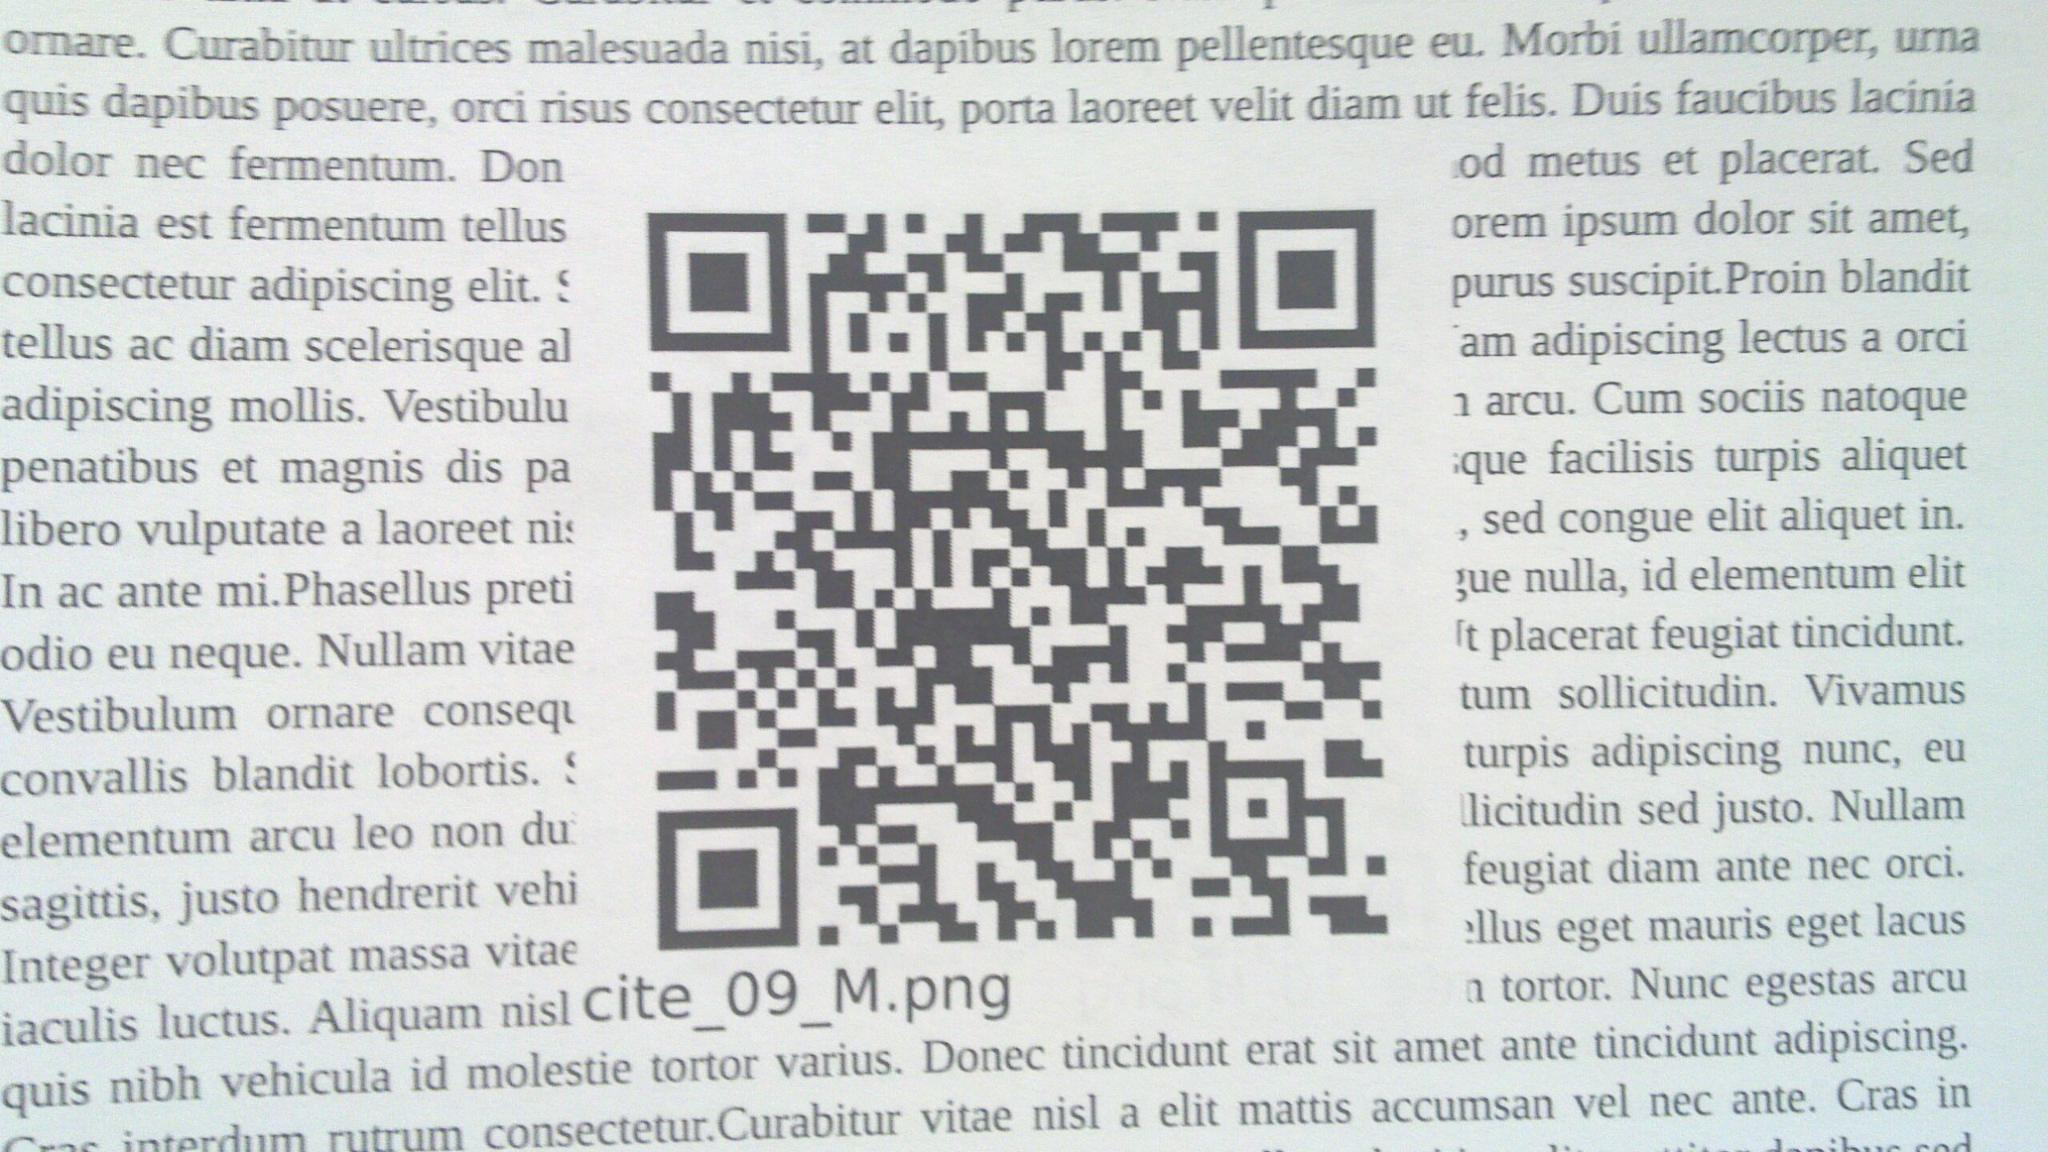Finder pattern: (633, 198, 802, 364), (648, 796, 812, 961), (1229, 203, 1388, 359)
